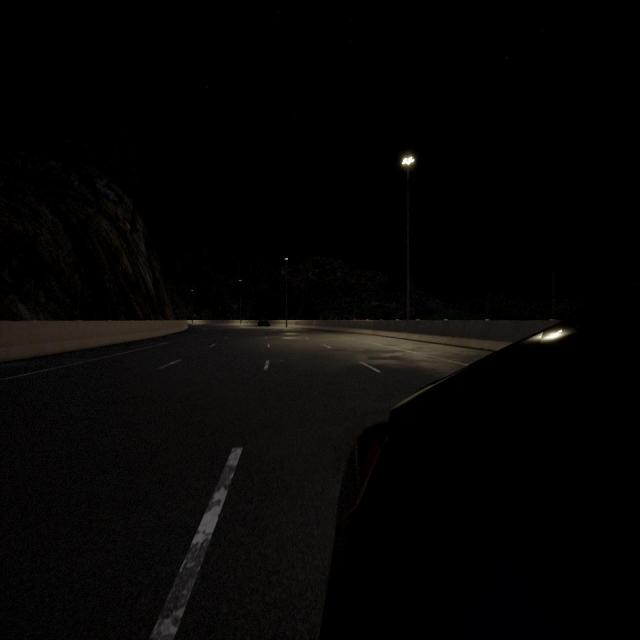Vehicle: (321, 292, 639, 638), (258, 318, 270, 326)
